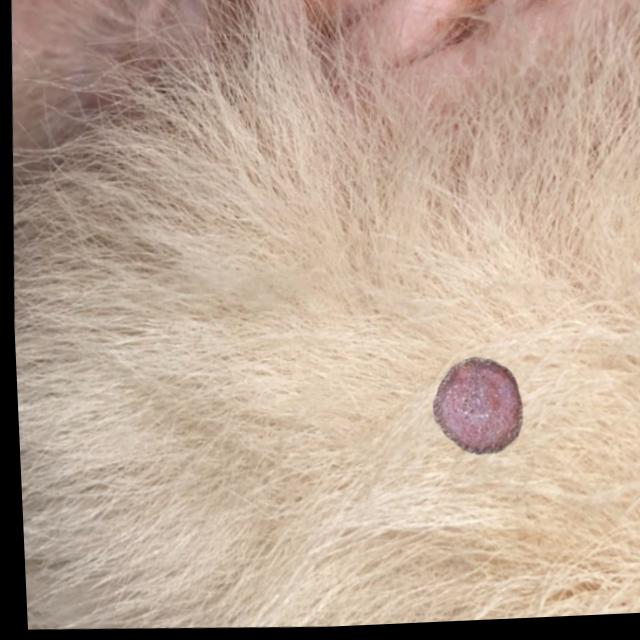ringworm: (391, 309, 575, 505)
